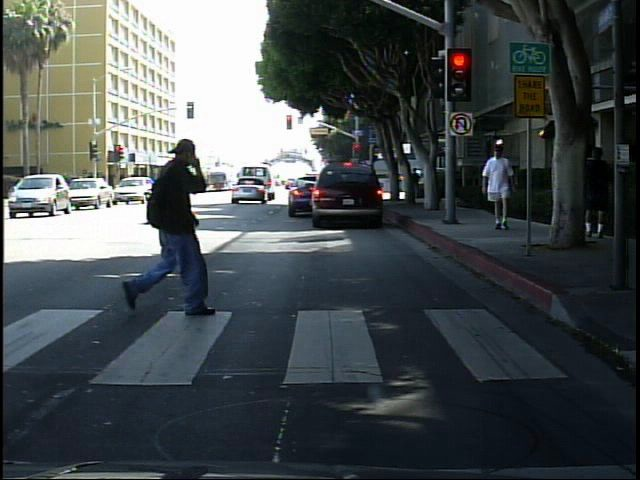person: (113, 121, 225, 335), (480, 145, 520, 240), (581, 137, 614, 246)
